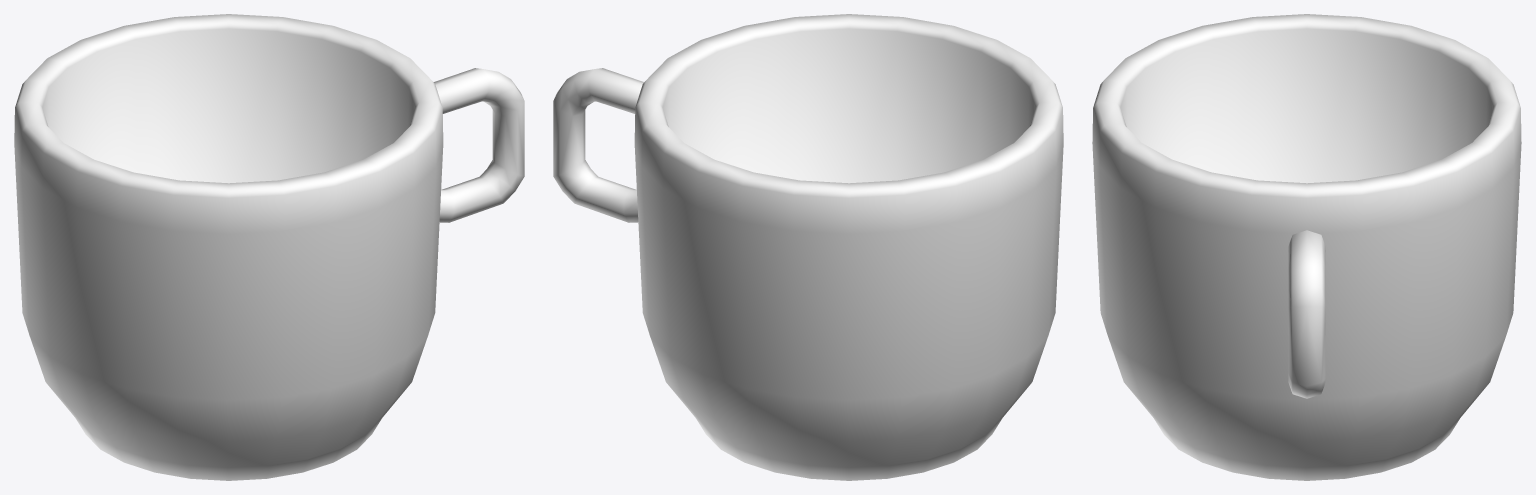
Rendered from Coffee_Cup.fbx.
The picture shows the model from 3 angles, left to right: view 1: azimuth 30°, elevation 25°; view 2: azimuth 150°, elevation 25°; view 3: azimuth 270°, elevation 25°; orthographic projection.
Parts seen in each view (by area): view 1: Coffee_Cup; view 2: Coffee_Cup; view 3: Coffee_Cup.
Part boxes in pixels (box(x1,y1,x2,y2)): Coffee_Cup: box(14, 14, 524, 480); Coffee_Cup: box(553, 14, 1063, 480); Coffee_Cup: box(1092, 14, 1521, 480).
Bounding box in the file's own units: 11.06 × 6.98 × 8.6.
